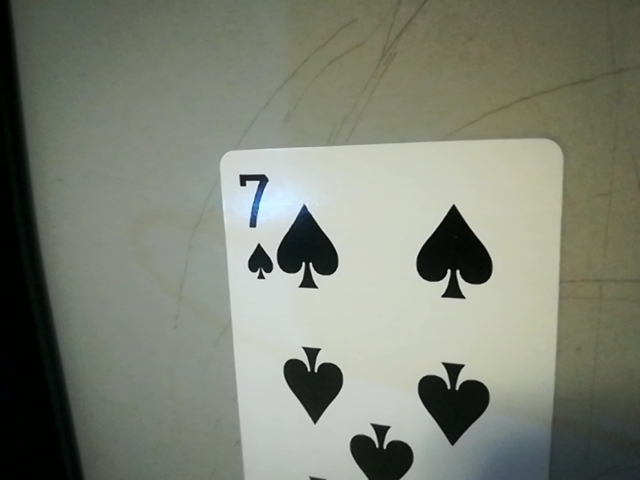ht 7: (225, 161, 274, 284)
